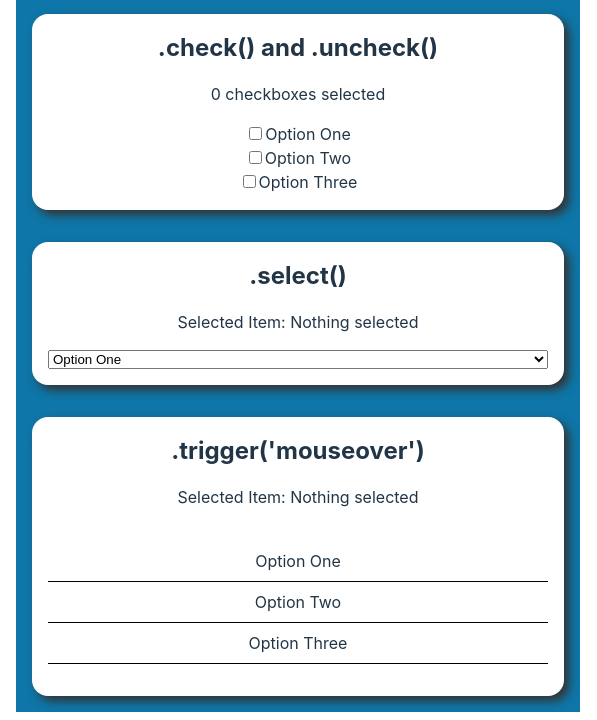
Example 4: Click, Check, Select › should handle dropdown selection
This screenshot has width=597, height=720.
(page scrolled)
Select "Option Two" in the dropdown with test id "box-3-dropdown" at (298, 360), box [48, 350, 548, 369]
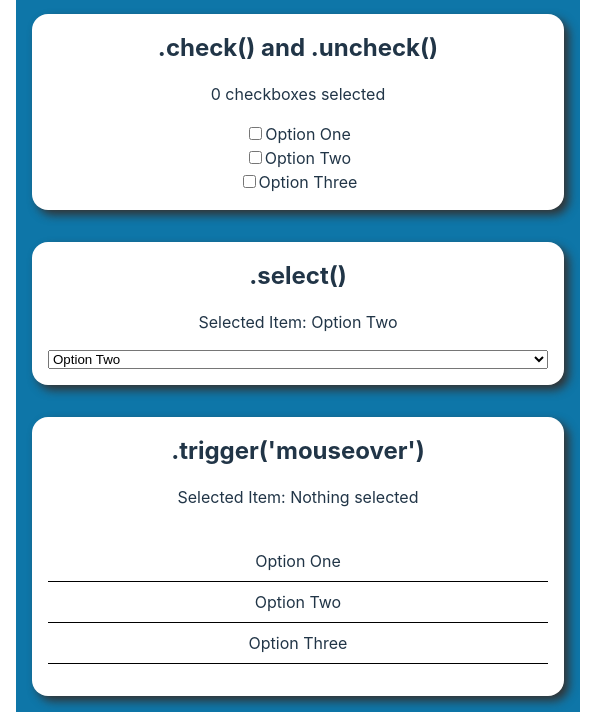
Check: the text with test id "box-3-selected-name" reads "Option Two", box [311, 312, 397, 332]
